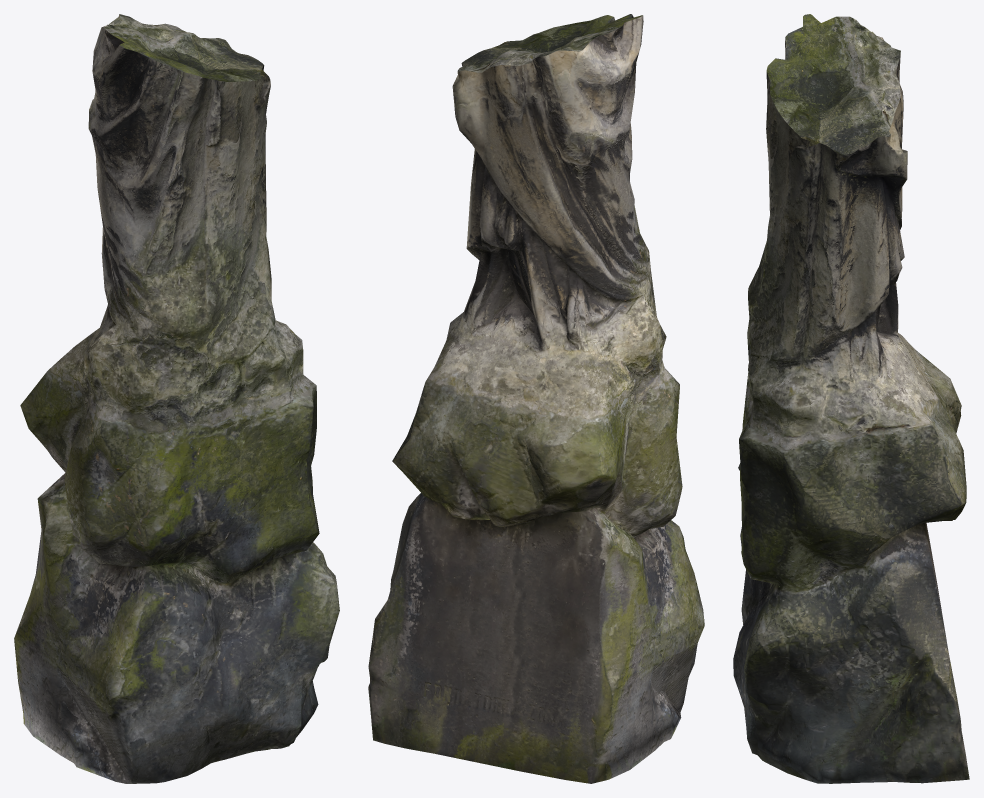
File: SM_GraveSculpture_01_03.fbx
3 renders of one model, left to right at view 1: azimuth 30°, elevation 25°; view 2: azimuth 150°, elevation 25°; view 3: azimuth 270°, elevation 25°, orthographic. The views are drawn at different scales.
Visible parts, largest first — view 1: sm_GraveSculpture_01_03_LOD0; view 2: sm_GraveSculpture_01_03_LOD0; view 3: sm_GraveSculpture_01_03_LOD0.
Boxes of the visible parts, x1=… form: sm_GraveSculpture_01_03_LOD0: x1=14, y1=14, x2=339, y2=783; sm_GraveSculpture_01_03_LOD0: x1=368, y1=14, x2=704, y2=783; sm_GraveSculpture_01_03_LOD0: x1=733, y1=14, x2=969, y2=783.
Bounding box in the file's own units: 69.15 × 75.95 × 222.
